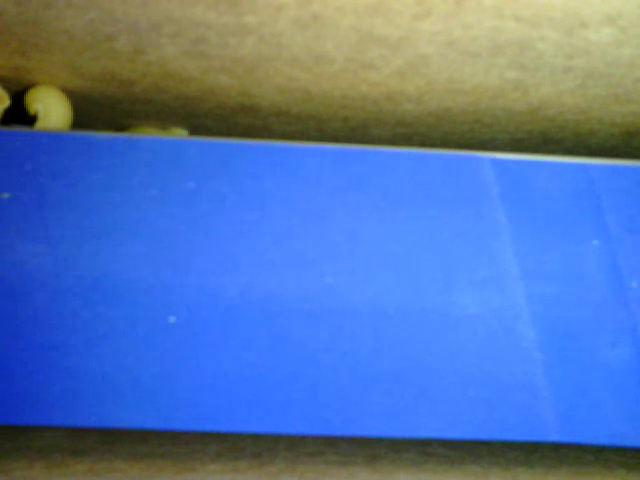shell: (22, 82, 72, 130)
